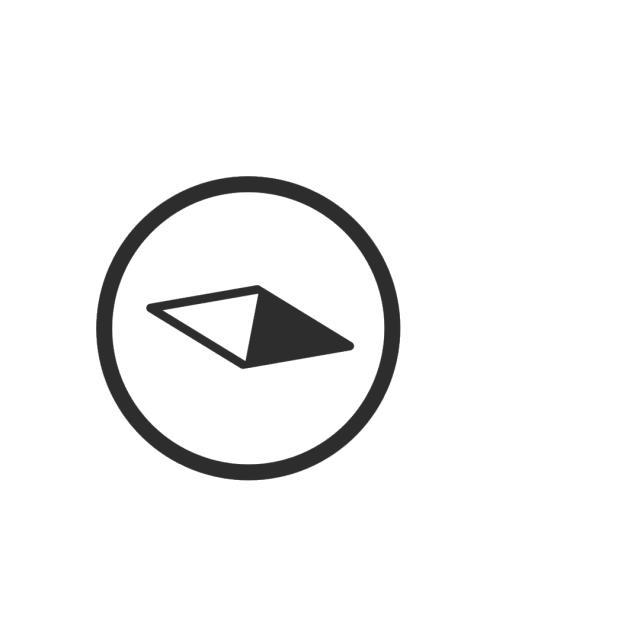compass: (84, 168, 412, 486)
